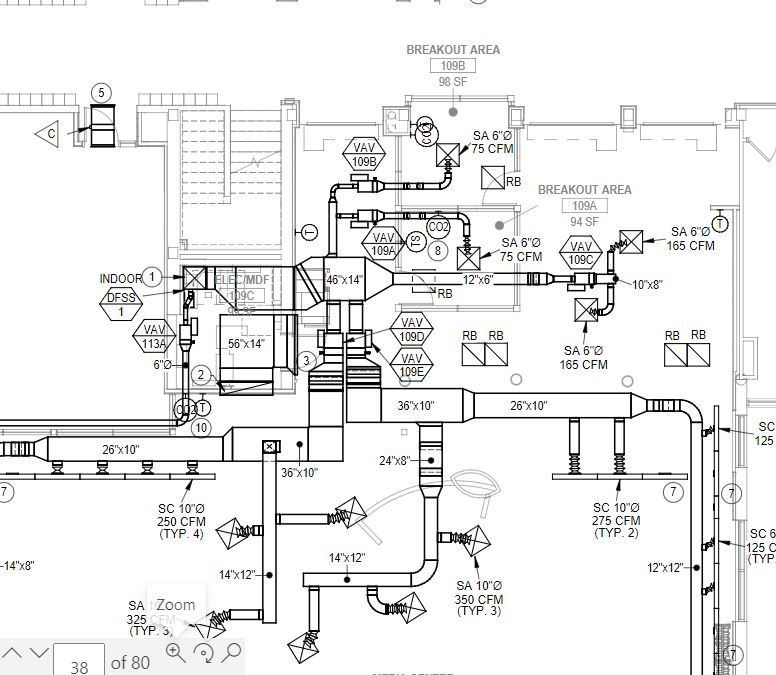VAV Box: (337, 165, 388, 198), (343, 317, 380, 357), (175, 304, 202, 356), (345, 204, 393, 230), (312, 325, 345, 361), (559, 269, 603, 293)
